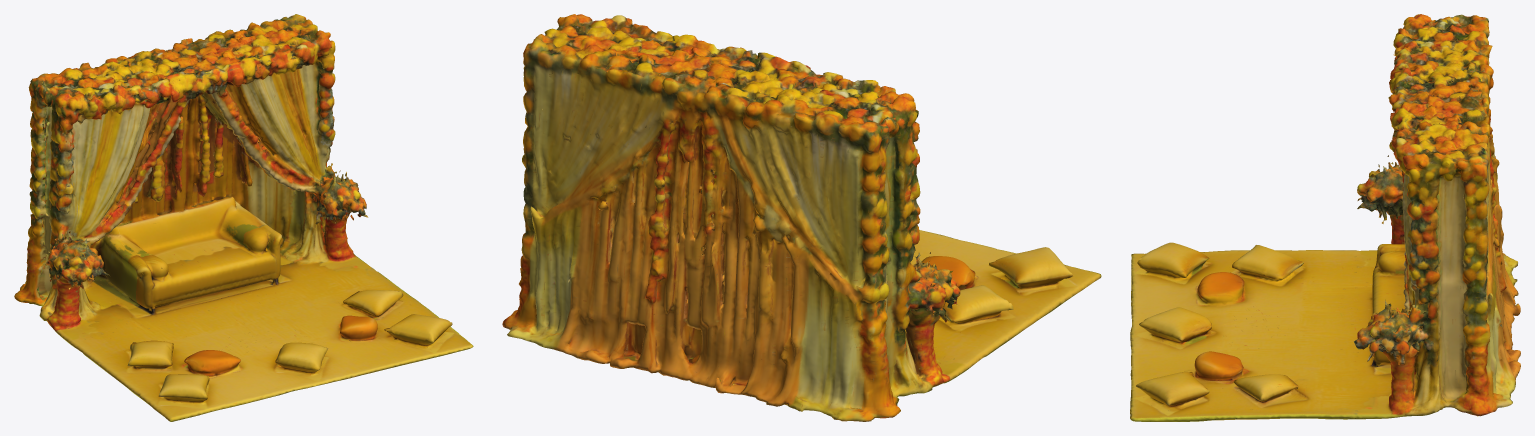
Rendered from Marigold_Haldi_Stage.glb.
3 views of the same model, side by side, from view 1: azimuth 30°, elevation 25°; view 2: azimuth 150°, elevation 25°; view 3: azimuth 270°, elevation 25° (orthographic). The views are drawn at different scales.
Size of the model in its own units: 1.98 by 1.42 by 1.95.
1 material, 1 textured.
